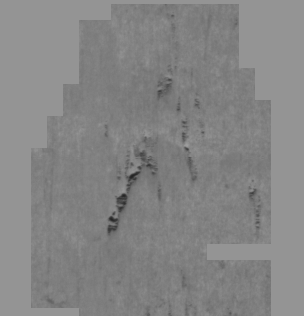oxl: (35, 10, 269, 306)
